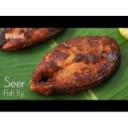seerfish: (32, 35, 120, 95)
